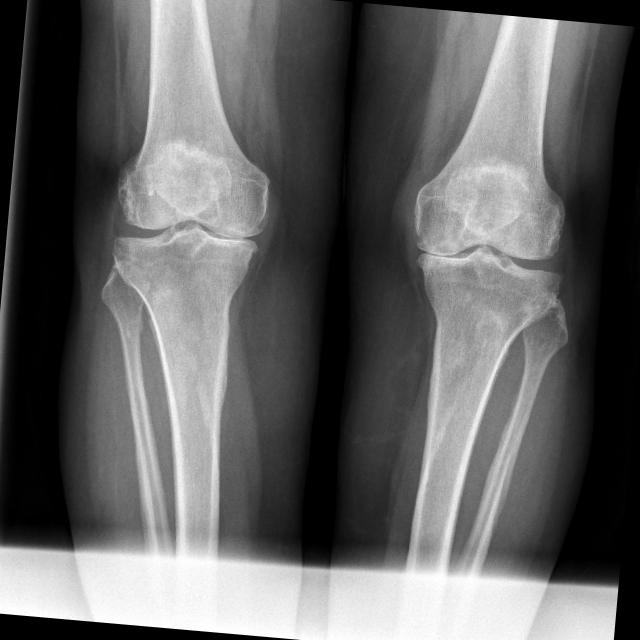Knee: (398, 160, 570, 334), (105, 136, 272, 304)
